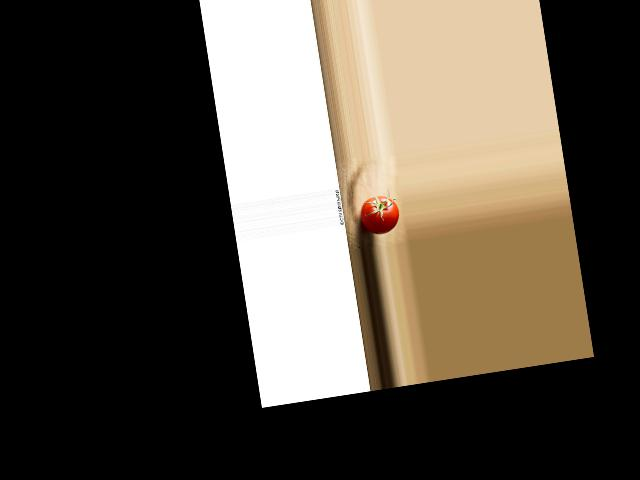tomato: (358, 192, 400, 236)
